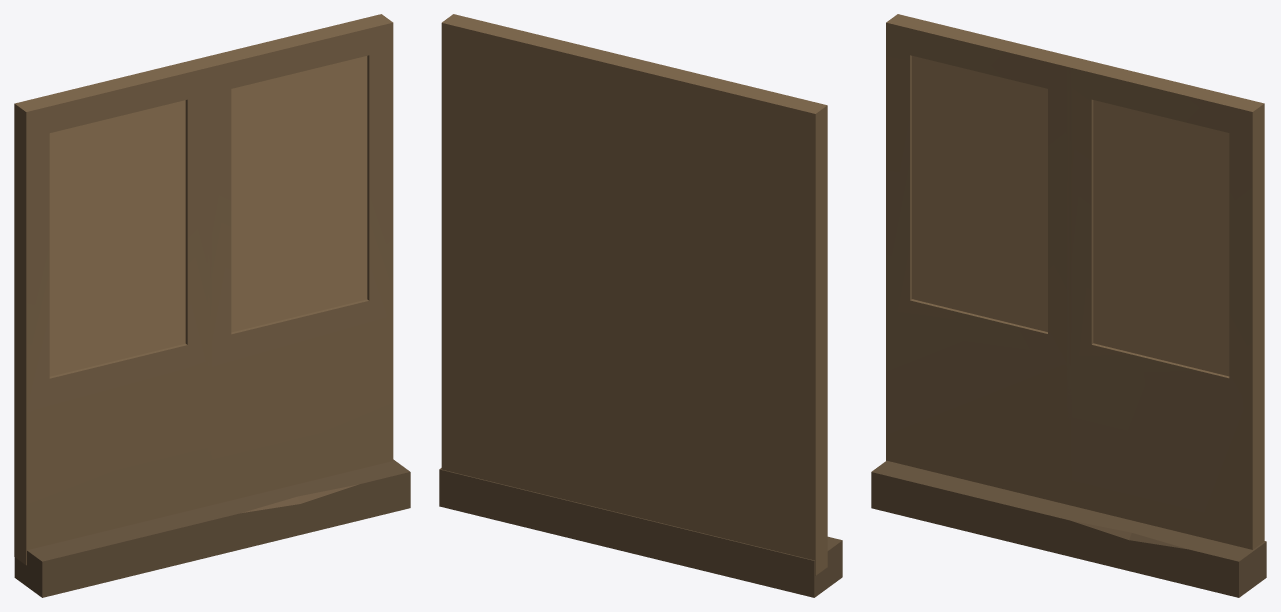
File: SM_Env_Door_05.fbx
3 renders of one model, left to right at view 1: azimuth 30°, elevation 25°; view 2: azimuth 150°, elevation 25°; view 3: azimuth 330°, elevation 25°, orthographic. The views are drawn at different scales.
Parts seen in each view (by area): view 1: SM_Env_Door_05; view 2: SM_Env_Door_05; view 3: SM_Env_Door_05.
Part boxes in pixels (<box>): SM_Env_Door_05: <box>14,14,410,597</box>; SM_Env_Door_05: <box>439,14,842,597</box>; SM_Env_Door_05: <box>871,14,1266,597</box>.
Bounding box in the file's own units: 108 × 133 × 14.06.
1 material, 1 textured.
